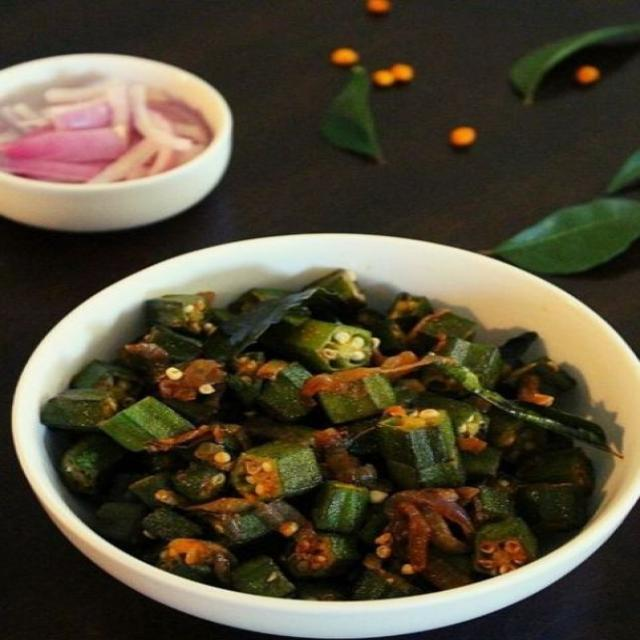VEGGIES: (43, 266, 600, 603)
